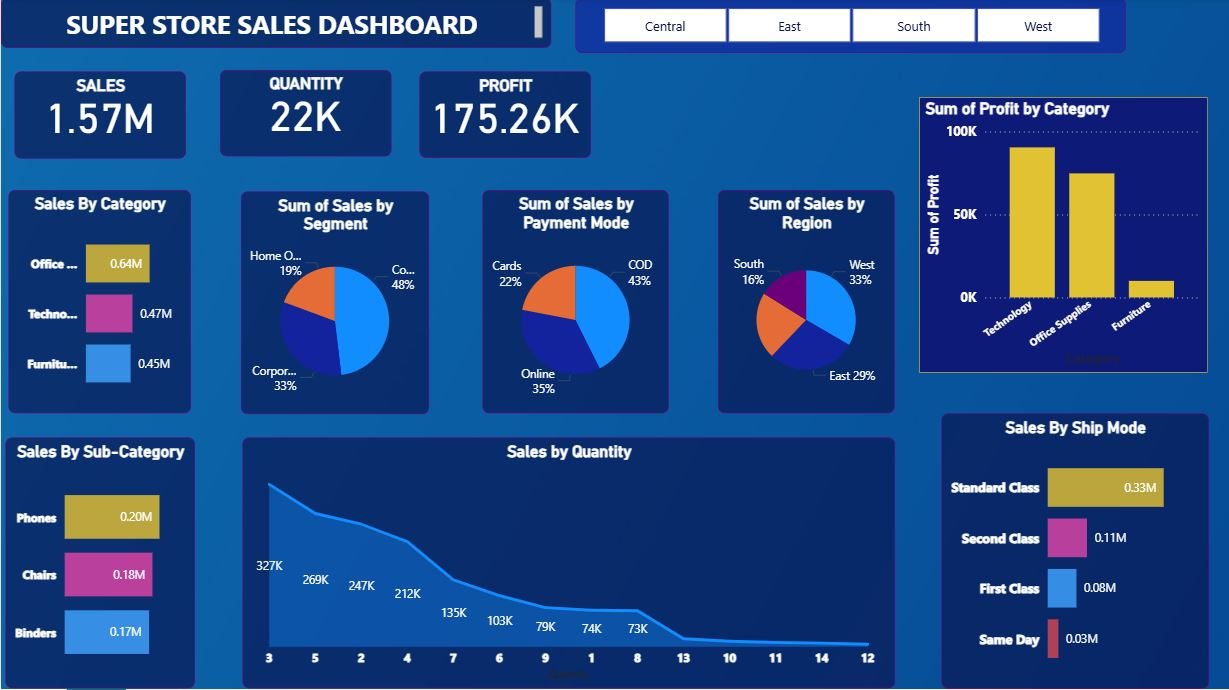

The page's visual inventory and layout, read from the dashboard file:
{"tool":"powerbi","page":{"name":"Page 1","canvas":[1280,720],"ordinal":0},"visuals":[{"type":"clusteredBarChart","title":"Sales By Category","fields":{"Category":["SuperStore_Sales_Dataset.Category"],"Y":["Sum(SuperStore_Sales_Dataset.Sales)"]},"box":[7.1,200,190,232.9],"z":0},{"type":"clusteredBarChart","title":"Sales By Sub-Category","fields":{"Category":["SuperStore_Sales_Dataset.Sub-Category"],"Y":["Sum(SuperStore_Sales_Dataset.Sales)"]},"box":[4.3,458.6,197.1,261.4],"z":1000},{"type":"clusteredBarChart","title":"Sales By Ship Mode","fields":{"Category":["SuperStore_Sales_Dataset.Ship Mode"],"Y":["Sum(SuperStore_Sales_Dataset.Sales)"]},"box":[979.8,433.6,278.6,286.8],"z":2000},{"type":"stackedAreaChart","title":"Sales by Quantity","fields":{"Y":["Sum(SuperStore_Sales_Dataset.Sales)"],"Category":["SuperStore_Sales_Dataset.Quantity"]},"box":[251.4,458.6,680,261.4],"z":3000},{"type":"pieChart","fields":{"Category":["SuperStore_Sales_Dataset.Segment"],"Y":["Sum(SuperStore_Sales_Dataset.Sales)"]},"box":[249.7,201.7,196.2,231.9],"z":4000},{"type":"pieChart","fields":{"Category":["SuperStore_Sales_Dataset.Payment Mode"],"Y":["Sum(SuperStore_Sales_Dataset.Sales)"]},"box":[501.4,200,194.3,232.9],"z":5000},{"type":"pieChart","fields":{"Category":["SuperStore_Sales_Dataset.Region"],"Y":["Sum(SuperStore_Sales_Dataset.Sales)"]},"box":[747.1,200,184.3,232.9],"z":6000},{"type":"slicer","fields":{"Values":["SuperStore_Sales_Dataset.Region"]},"box":[598.3,0,573.6,57.6],"z":7000},{"type":"textbox","box":[0,0,573.6,52.1],"z":8000},{"type":"card","title":"SALES","fields":{"Values":["Sum(SuperStore_Sales_Dataset.Sales)"]},"box":[13.7,76.8,178.4,90.6],"z":9000},{"type":"card","title":"PROFIT","fields":{"Values":["Sum(SuperStore_Sales_Dataset.Profit)"]},"box":[435.7,77.1,178.6,90],"z":10000},{"type":"card","title":"QUANTITY","fields":{"Values":["Sum(SuperStore_Sales_Dataset.Quantity)"]},"box":[228.6,75.7,178.6,90],"z":11000},{"type":"columnChart","fields":{"Y":["Sum(SuperStore_Sales_Dataset.Profit)"],"Category":["SuperStore_Sales_Dataset.Category"]},"box":[956.2,103.9,300.5,287.2],"z":12000}]}

Visuals, with their boxes in screenshot pixels (x1, y1, x2, y2), scaled from the page's 1280x720 canvas onto the 1229x690 screenshot:
"Sales By Category" clusteredBarChart: 7 192 189 415
"Sales By Sub-Category" clusteredBarChart: 4 439 193 689
"Sales By Ship Mode" clusteredBarChart: 941 416 1208 689
"Sales by Quantity" stackedAreaChart: 241 439 894 689
pieChart - SuperStore_Sales_Dataset.Segment x Sum(SuperStore_Sales_Dataset.Sales): 240 193 428 416
pieChart - SuperStore_Sales_Dataset.Payment Mode x Sum(SuperStore_Sales_Dataset.Sales): 481 192 668 415
pieChart - SuperStore_Sales_Dataset.Region x Sum(SuperStore_Sales_Dataset.Sales): 717 192 894 415
slicer - SuperStore_Sales_Dataset.Region: 574 0 1125 55
textbox: 0 0 551 50
"SALES" card: 13 74 184 160
"PROFIT" card: 418 74 590 160
"QUANTITY" card: 219 73 391 159
columnChart - Sum(SuperStore_Sales_Dataset.Profit) x SuperStore_Sales_Dataset.Category: 918 100 1207 375
